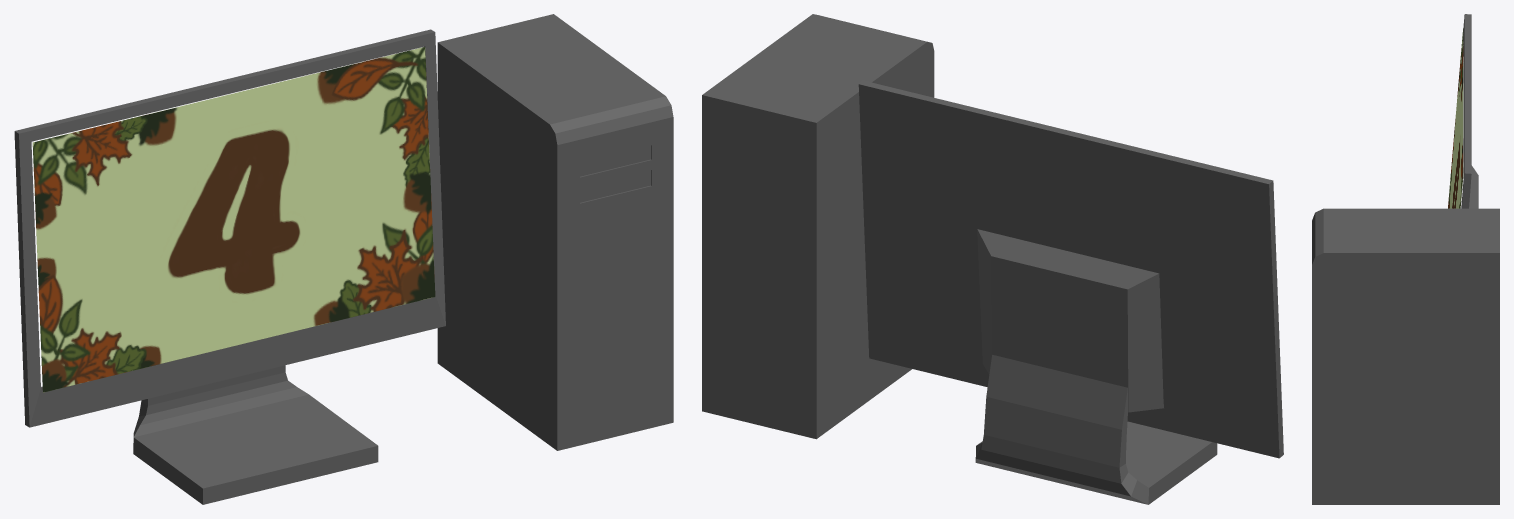
The model's file is computer4.gltf.
The picture shows the model from 3 angles, left to right: view 1: azimuth 30°, elevation 25°; view 2: azimuth 150°, elevation 25°; view 3: azimuth 270°, elevation 25°; orthographic projection. The views are drawn at different scales.
Parts seen in each view (by area): view 1: computer.001, Fläche.001; view 2: computer.001; view 3: computer.001, Fläche.001.
Boxes of the visible parts, bbox=[...] form: computer.001: bbox=[14, 14, 673, 504]; Fläche.001: bbox=[32, 47, 435, 392]; computer.001: bbox=[702, 14, 1283, 504]; computer.001: bbox=[1312, 14, 1499, 504]; Fläche.001: bbox=[1448, 28, 1463, 208].
Size of the model in its own units: 5.37 by 3.26 by 2.
3 materials, 1 textured.
